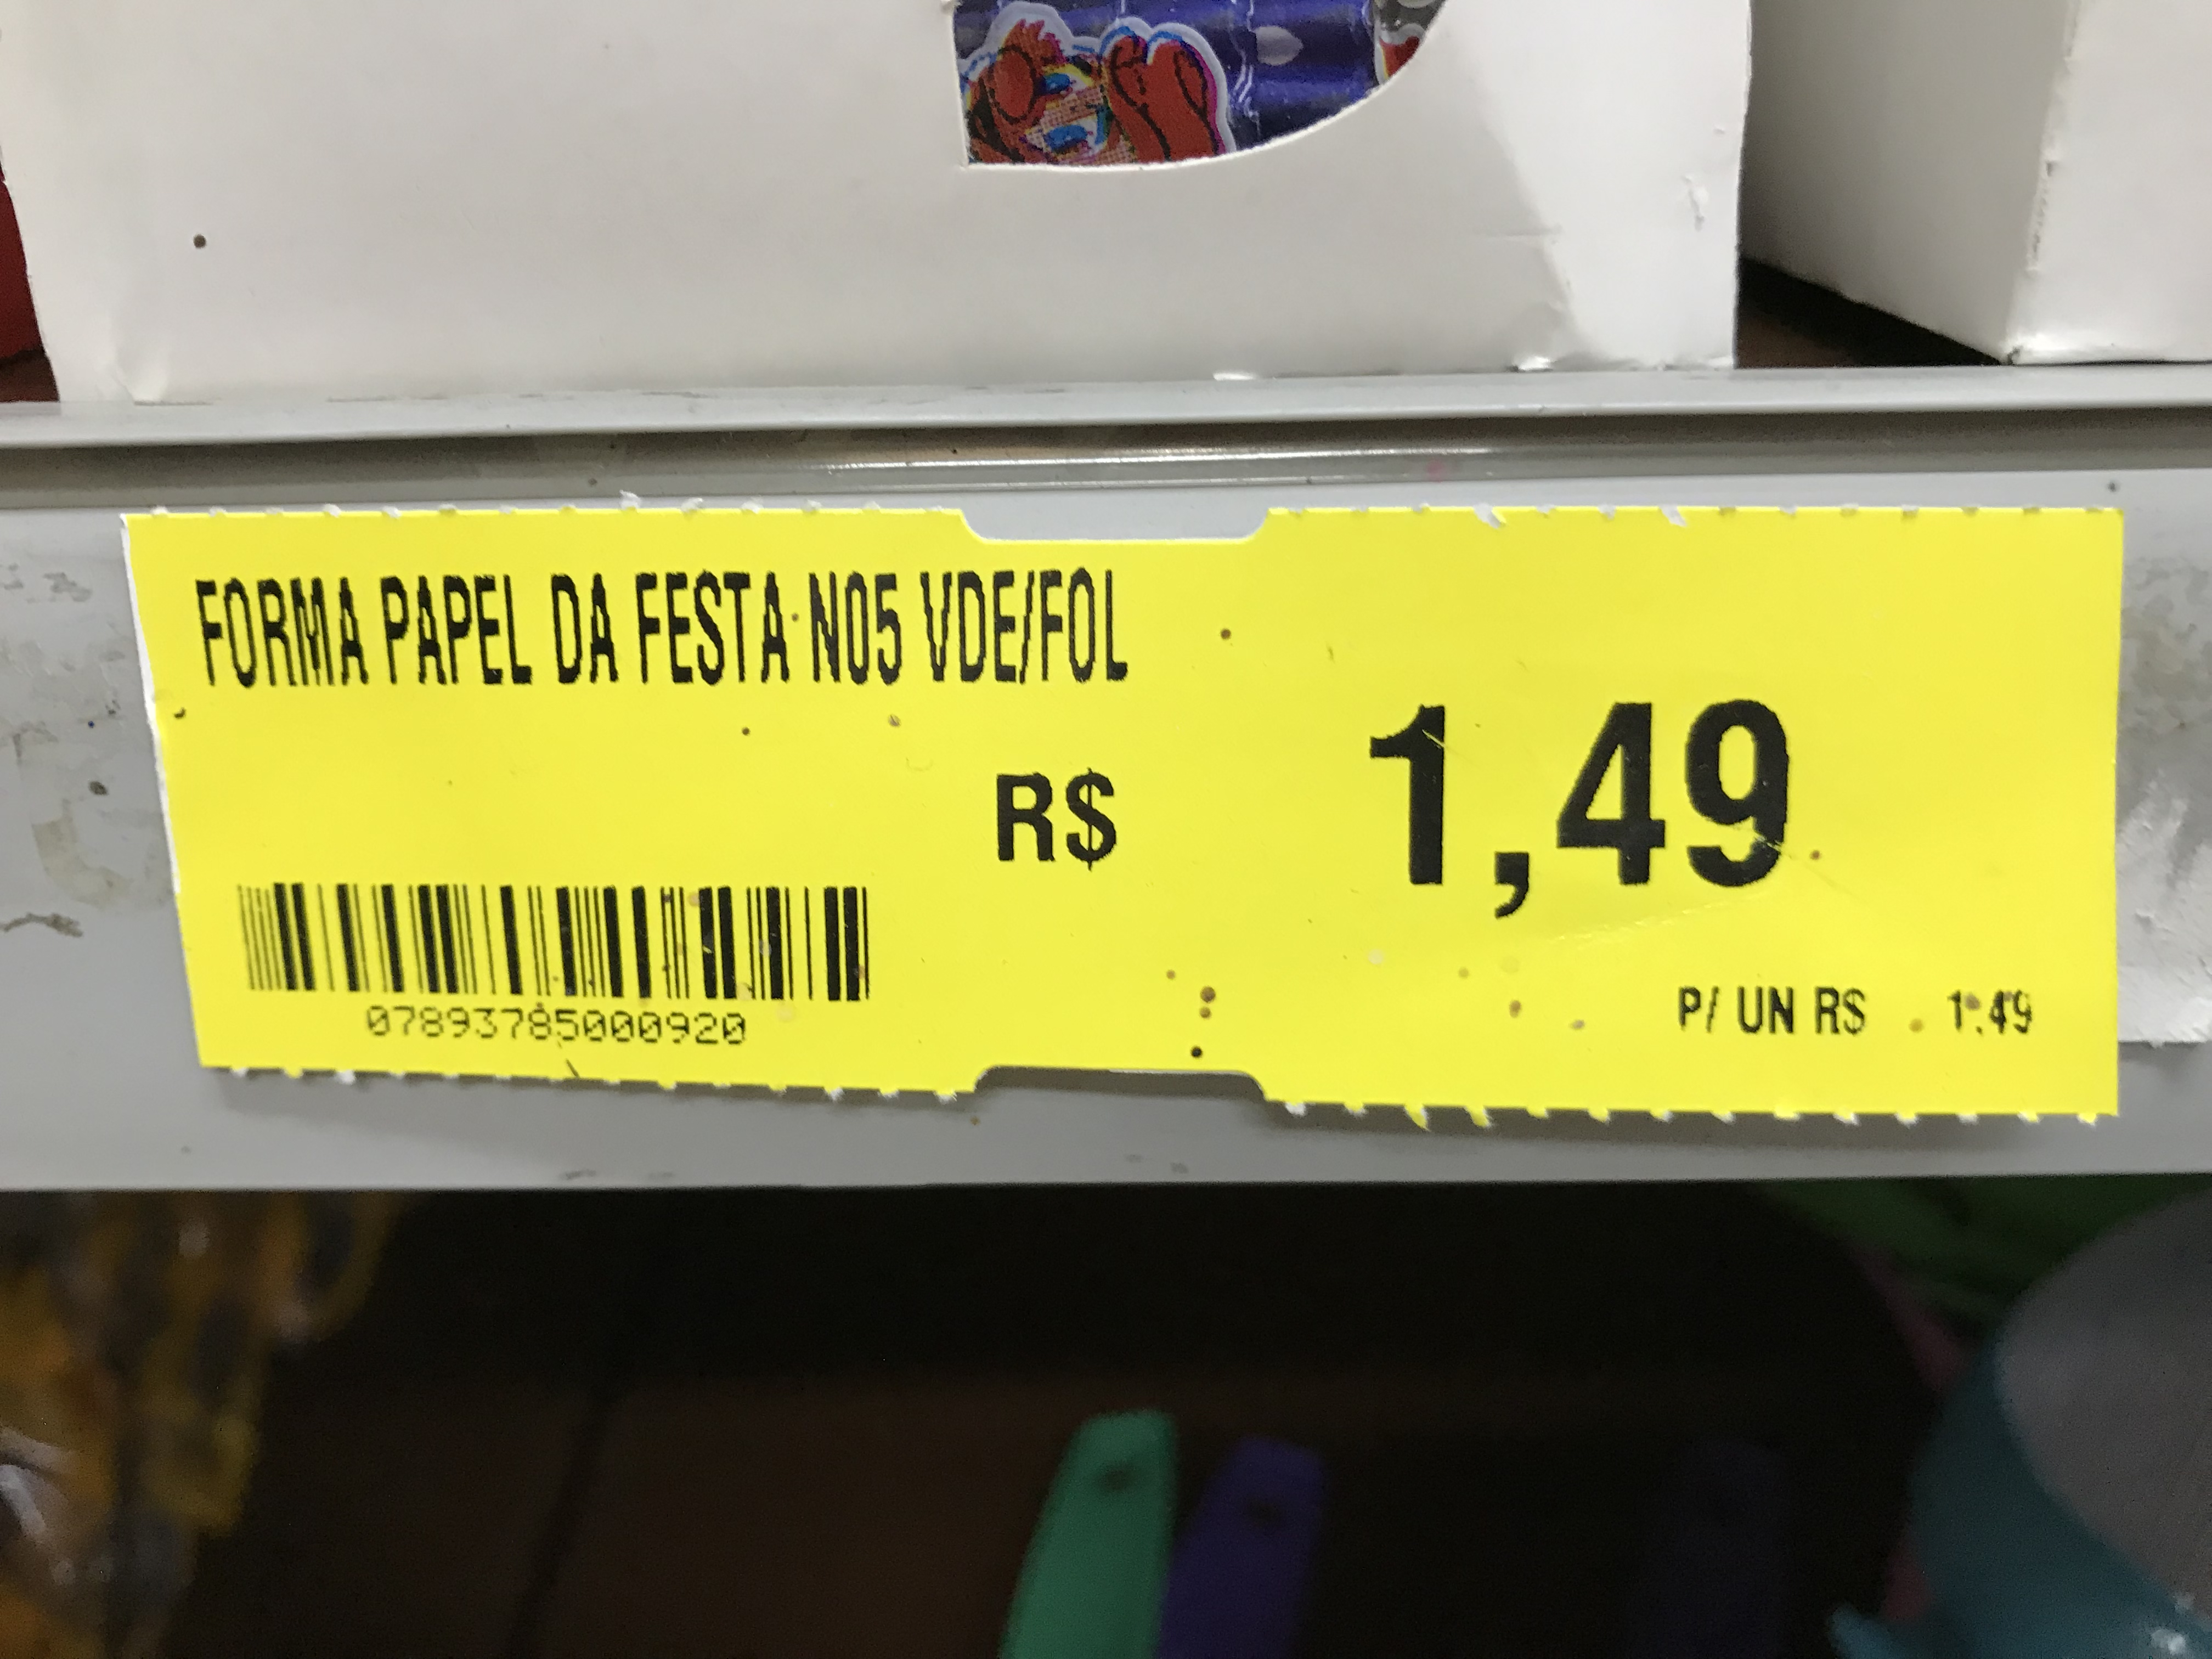estampa: (98, 488, 2160, 1148)
